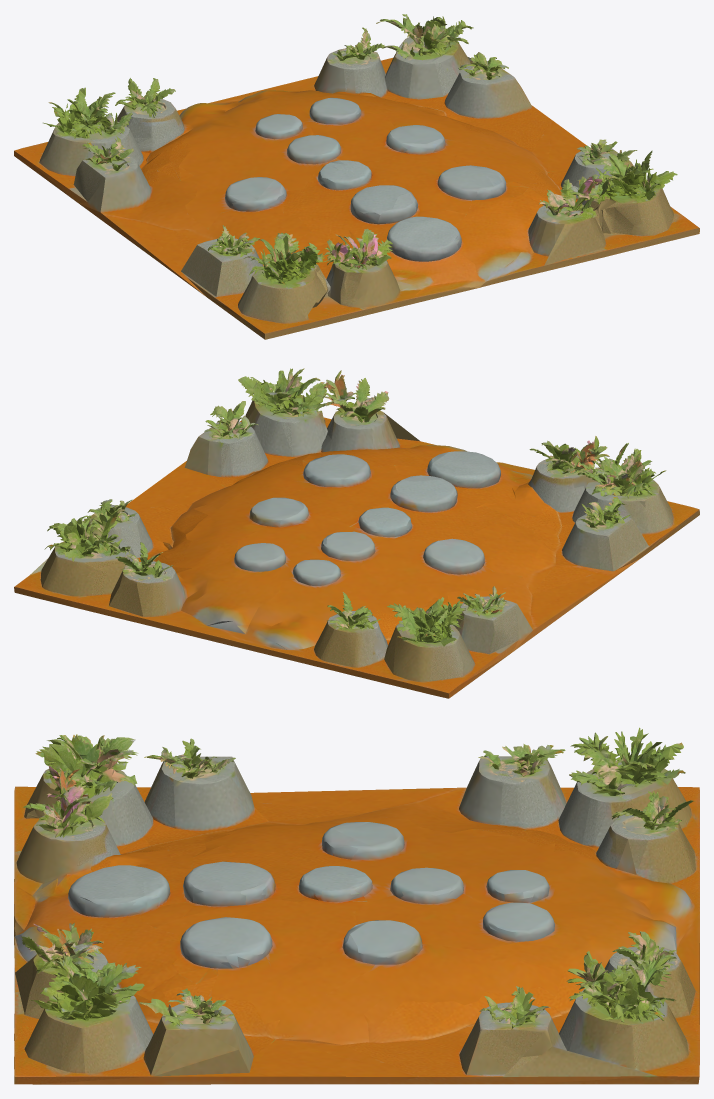
Rendered from rainbow-valley-carrot-lane-v1.glb.
3 views of the same model, one above another, from view 1: azimuth 30°, elevation 25°; view 2: azimuth 150°, elevation 25°; view 3: azimuth 270°, elevation 25° (orthographic). The views are drawn at different scales.
Bounding box in the file's own units: 1.9 × 0.2864 × 1.9.
Materials: 1 (1 with a texture image).
